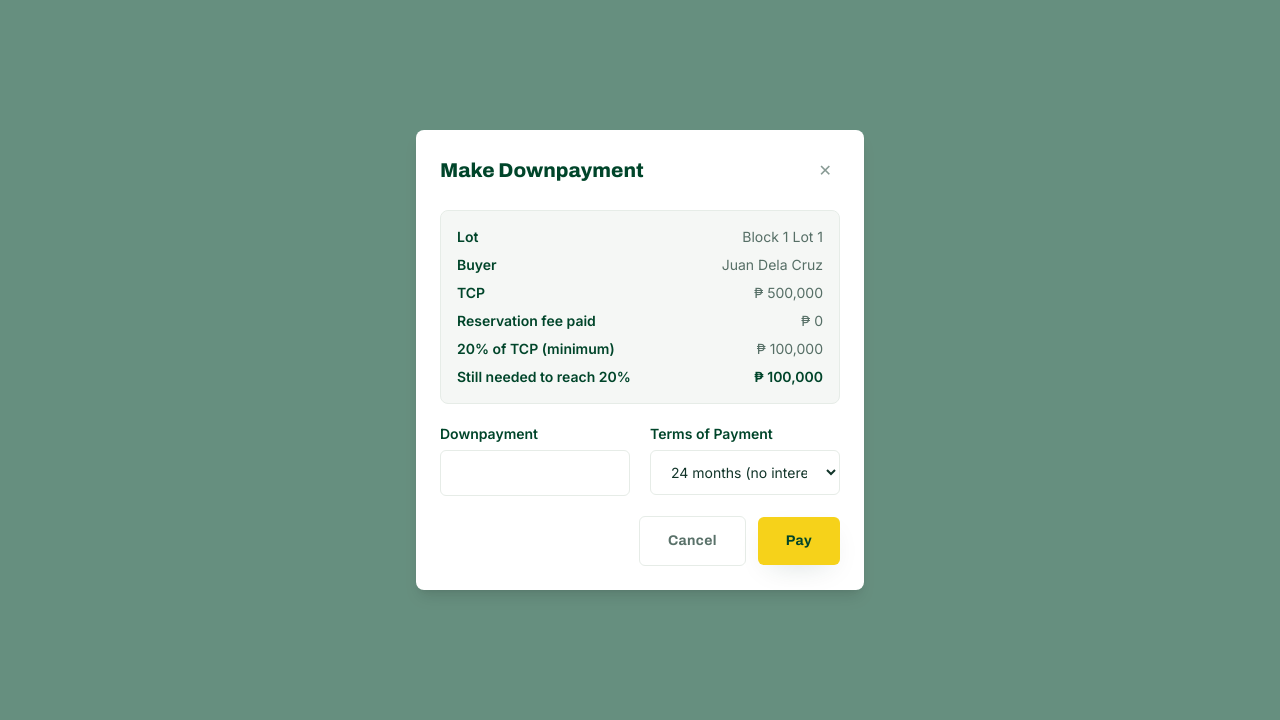
it: DownpaymentModal › requires a positive downpayment
Type "0" into the number field labelled "Downpayment". click: {"x": 535, "y": 473}
box: [440,450,630,496]
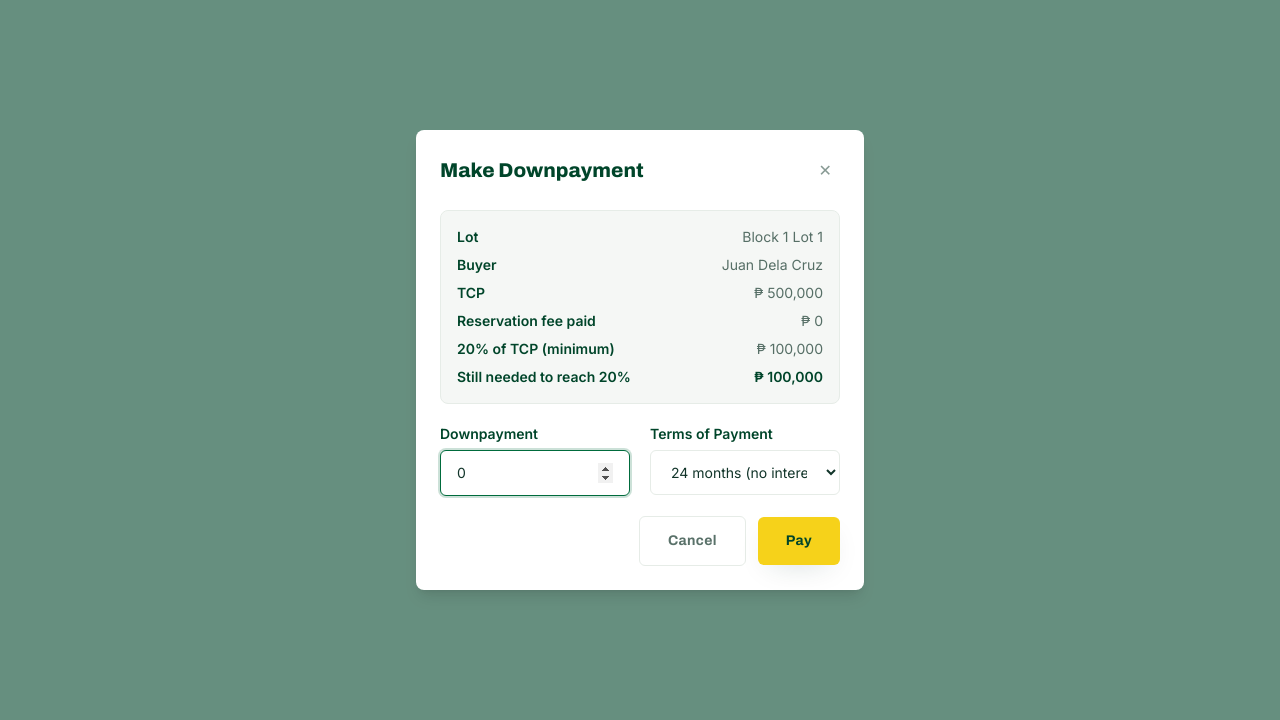
Click the button "Pay". click: {"x": 799, "y": 541}
box: [758,517,840,565]
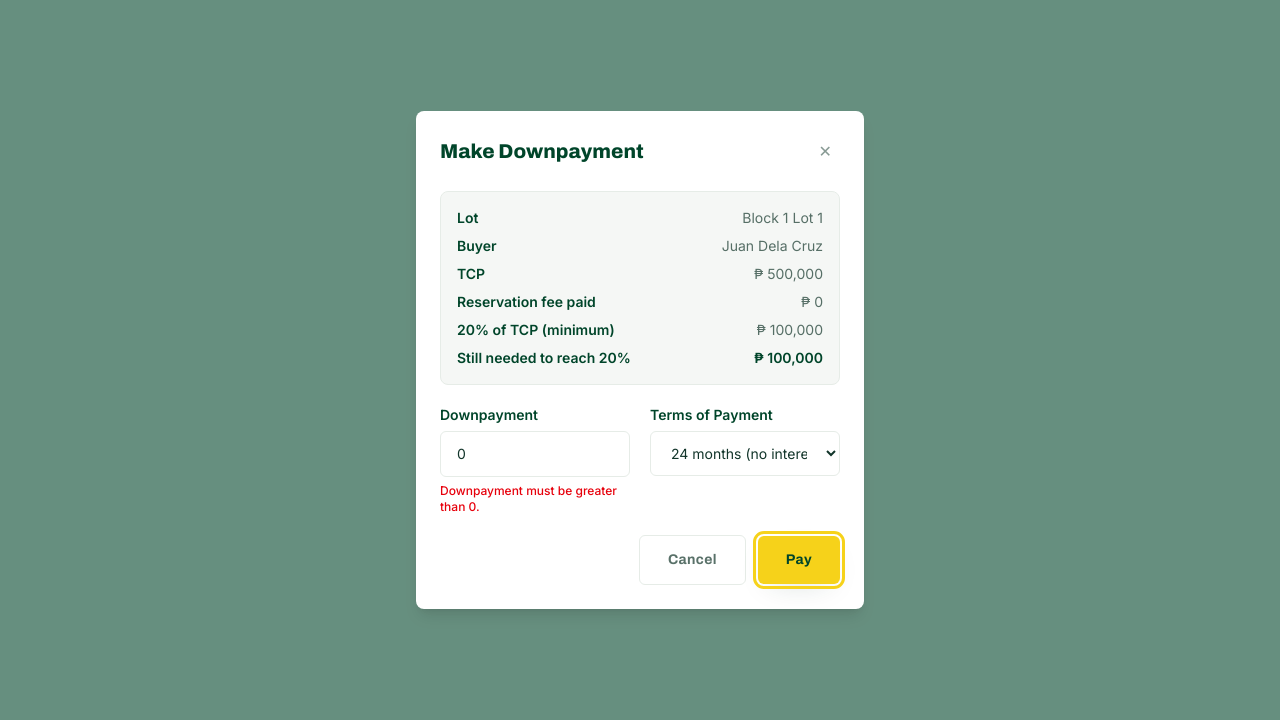
Expected: the text "Downpayment must be greater than 0." is shown, [440,483,630,515]
